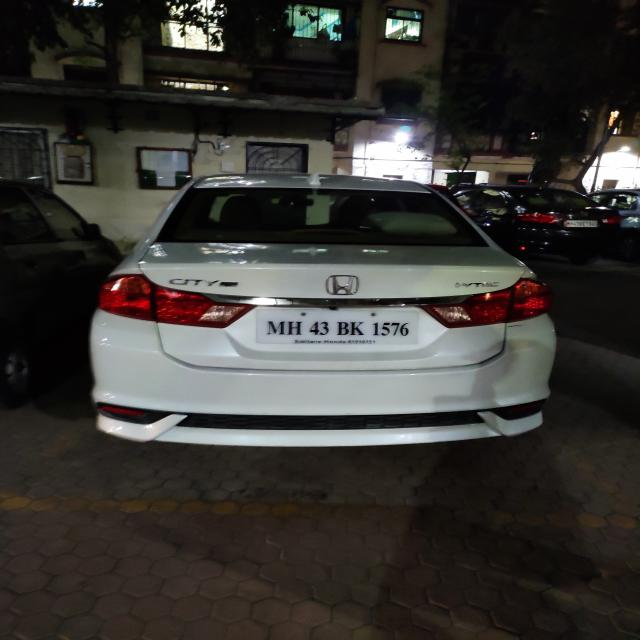Number-Plate: (261, 306, 419, 346)
